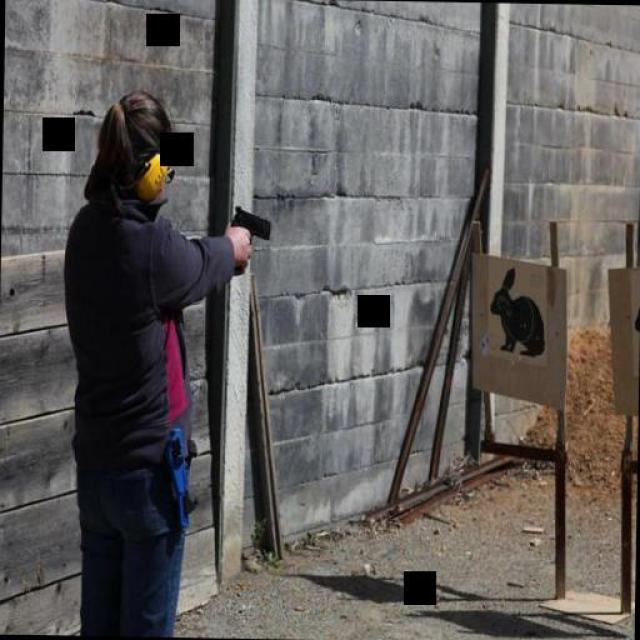gun: (225, 198, 275, 268)
